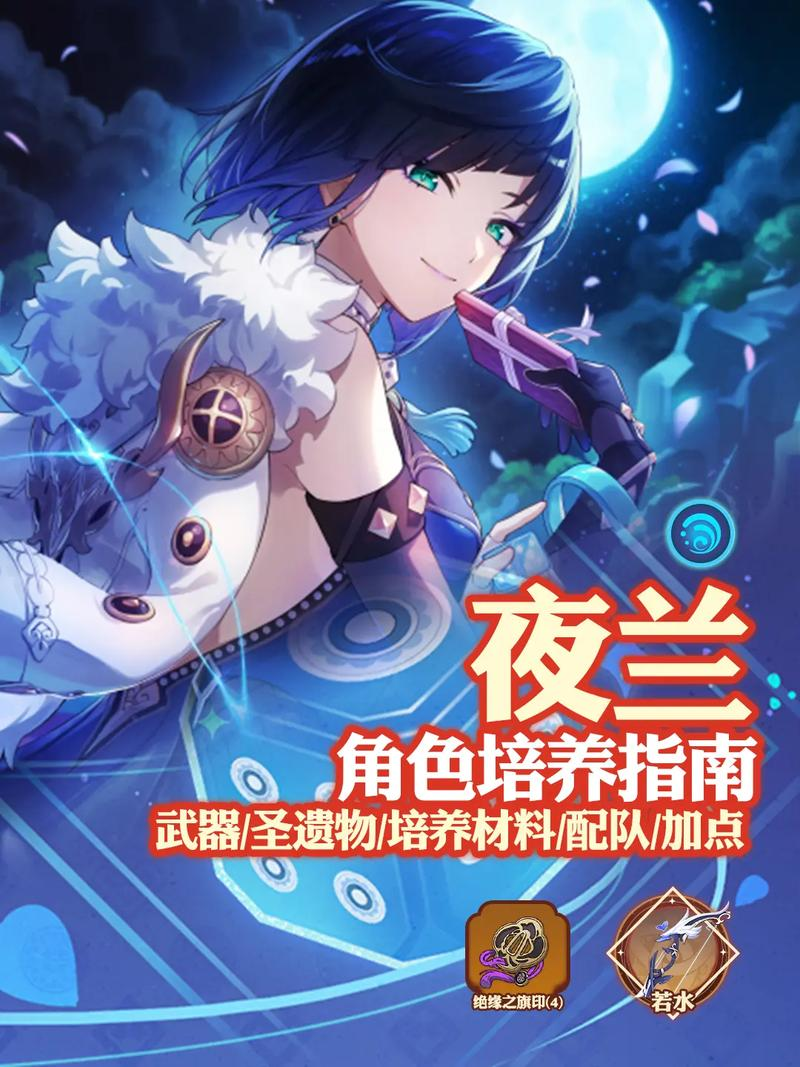夜兰: (1, 14, 655, 768)
